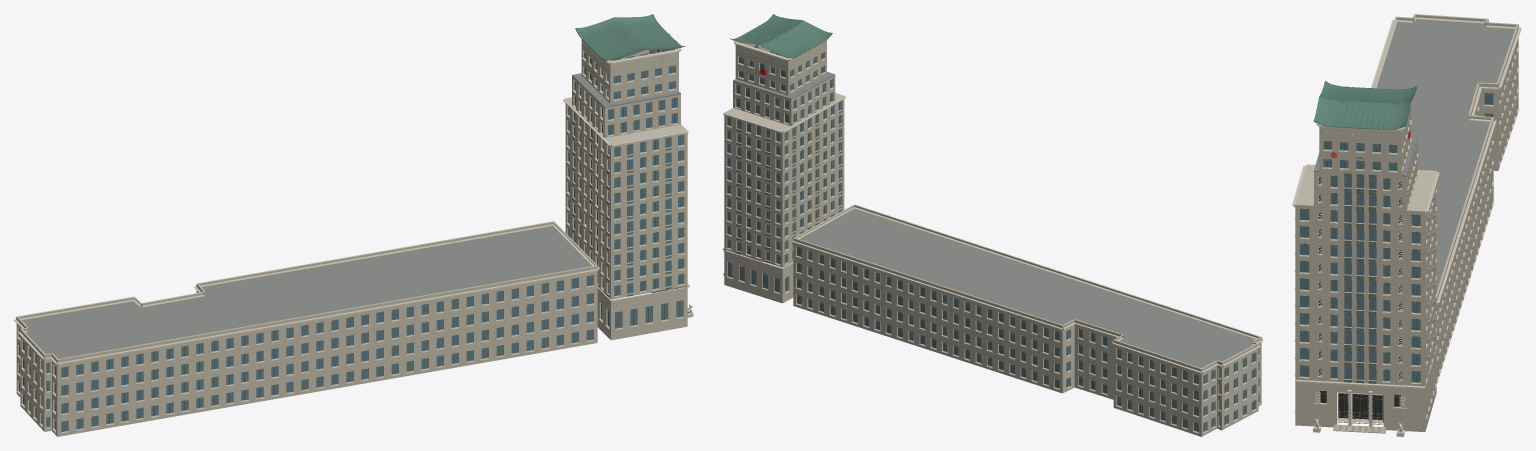
Rendered from bund23.glb.
3 views of the same model, side by side, from view 1: azimuth 30°, elevation 25°; view 2: azimuth 150°, elevation 25°; view 3: azimuth 270°, elevation 25° (orthographic). The views are drawn at different scales.
Bounding box in the file's own units: 171 × 73.54 × 49.01.
